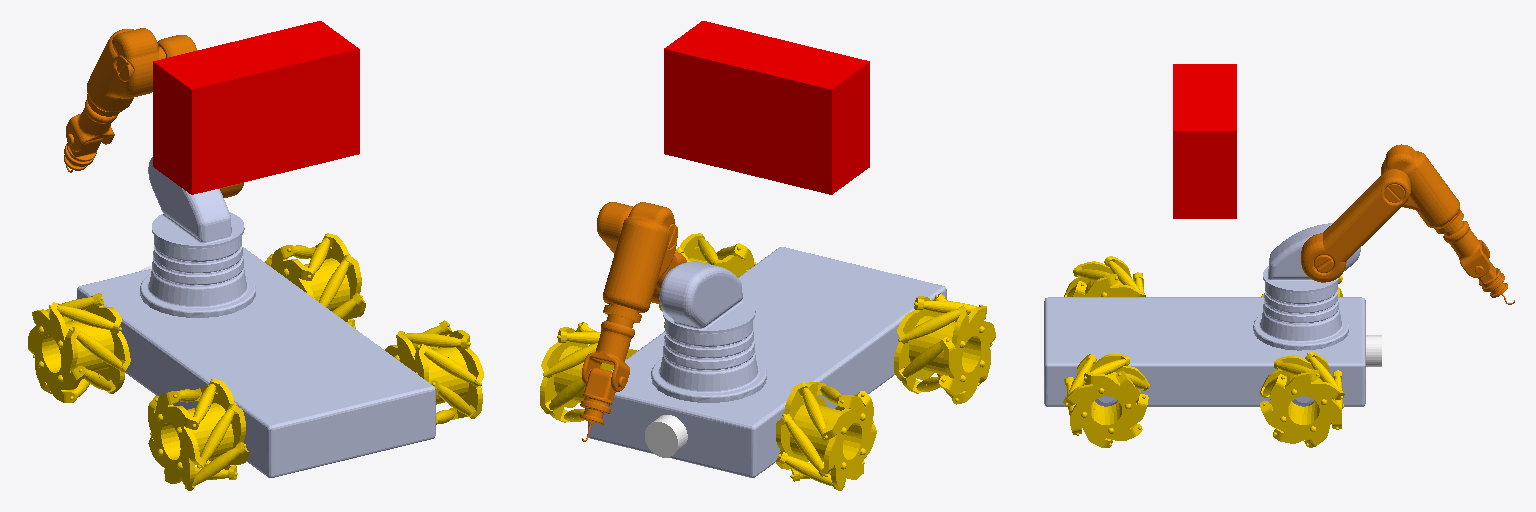
robot.urdf — my_robot:
<?xml version="1.0" encoding="utf-8"?>
<!-- This URDF was automatically created by SolidWorks to URDF Exporter! Originally created by Stephen Brawner (brawner@gmail.com) 
     Commit Version: 1.6.0-4-g7f85cfe  Build Version: 1.6.7995.38578
     For more information, please see http://wiki.ros.org/sw_urdf_exporter -->
<robot
  name="my_robot">
  <link
    name="base_link">
    <inertial>
      <origin
        xyz="-1.31453754602346E-05 0.0145989685767295 0.0128735596572317"
        rpy="0 0 0" />
      <mass
        value="0.0291817522897115" />
      <inertia
        ixx="2.26096677078734E-05"
        ixy="1.05080685382153E-09"
        ixz="1.49707222944589E-09"
        iyy="7.10731627926214E-06"
        iyz="-7.355107142587E-07"
        izz="2.69894564594657E-05" />
    </inertial>
    <visual>
      <origin
        xyz="0 0 0"
        rpy="0 0 0" />
      <geometry>
        <mesh
          filename="package://my_robot/meshes/base_link.STL" />
      </geometry>
      <material
        name="">
        <color
          rgba="0.792156862745098 0.819607843137255 0.933333333333333 1" />
      </material>
    </visual>
    <collision>
      <origin
        xyz="0 0 0"
        rpy="0 0 0" />
      <geometry>
        <mesh
          filename="package://my_robot/meshes/base_link.STL" />
      </geometry>
    </collision>
  </link>
  <link
    name="link_1">
    <inertial>
      <origin
        xyz="0.00223414762984723 0.00830104302441679 0.00906431037667552"
        rpy="0 0 0" />
      <mass
        value="0.00420634678285121" />
      <inertia
        ixx="5.55087733615501E-07"
        ixy="6.36179223881654E-13"
        ixz="-5.71540420351045E-13"
        iyy="3.34497011562759E-07"
        iyz="-2.3665444278581E-07"
        izz="2.92803242780953E-07" />
    </inertial>
    <visual>
      <origin
        xyz="0 0 0"
        rpy="0 0 0" />
      <geometry>
        <mesh
          filename="package://my_robot/meshes/link_1.STL" />
      </geometry>
      <material
        name="">
        <color
          rgba="0.866666666666667 0.486274509803922 0.0549019607843137 1" />
      </material>
    </visual>
    <collision>
      <origin
        xyz="0 0 0"
        rpy="0 0 0" />
      <geometry>
        <mesh
          filename="package://my_robot/meshes/link_1.STL" />
      </geometry>
    </collision>
  </link>
  <joint
    name="arm_1"
    type="revolute">
    <origin
      xyz="0.0075 0.03703 0.044564"
      rpy="0 0 0" />
    <parent
      link="base_link" />
    <child
      link="link_1" />
    <axis
      xyz="1 0 0" />
    <limit
      lower="-1.5708"
      upper="3.1416"
      effort="10"
      velocity="10" />
  </joint>
  <link
    name="link_2">
    <inertial>
      <origin
        xyz="-0.0043157 0.010971 -0.0096757"
        rpy="0 0 0" />
      <mass
        value="0.005347" />
      <inertia
        ixx="2.5247E-07"
        ixy="2.3881E-11"
        ixz="-3.6218E-11"
        iyy="2.063E-07"
        iyz="6.5887E-08"
        izz="1.6953E-07" />
    </inertial>
    <visual>
      <origin
        xyz="0 0 0"
        rpy="0 0 0" />
      <geometry>
        <mesh
          filename="package://my_robot/meshes/link_2.STL" />
      </geometry>
      <material
        name="">
        <color
          rgba="0.86667 0.48627 0.054902 1" />
      </material>
    </visual>
    <collision>
      <origin
        xyz="0 0 0"
        rpy="0 0 0" />
      <geometry>
        <mesh
          filename="package://my_robot/meshes/link_2.STL" />
      </geometry>
    </collision>
  </link>
  <joint
    name="arm_2"
    type="revolute">
    <origin
      xyz="-0.0032658 0.021983 0.024004"
      rpy="0 0 0" />
    <parent
      link="link_1" />
    <child
      link="link_2" />
    <axis
      xyz="1 0 0" />
    <limit
      lower="-1.5708"
      upper="1.5708"
      effort="10"
      velocity="10" />
  </joint>
  <link
    name="link_3">
    <inertial>
      <origin
        xyz="-0.0040462500171085 8.98969064536126E-08 -4.51286701875185E-08"
        rpy="0 0 0" />
      <mass
        value="0.00249693932535124" />
      <inertia
        ixx="1.69120898530834E-07"
        ixy="-2.97875097863566E-14"
        ixz="5.06710793463879E-16"
        iyy="9.96401080341647E-08"
        iyz="2.03546979033232E-14"
        izz="9.96401933922976E-08" />
    </inertial>
    <visual>
      <origin
        xyz="0 0 0"
        rpy="0 0 0" />
      <geometry>
        <mesh
          filename="package://my_robot/meshes/link_3.STL" />
      </geometry>
      <material
        name="">
        <color
          rgba="0.992156862745098 0.835294117647059 0 1" />
      </material>
    </visual>
    <collision>
      <origin
        xyz="0 0 0"
        rpy="0 0 0" />
      <geometry>
        <mesh
          filename="package://my_robot/meshes/link_3.STL" />
      </geometry>
    </collision>
  </link>
  <joint
    name="banh_sau_1"
    type="continuous">
    <origin
      xyz="0.039139 -0.03075 0.0075001"
      rpy="0 0 0" />
    <parent
      link="base_link" />
    <child
      link="link_3" />
    <axis
      xyz="-1 0 0" />
    <limit
      effort="20"
      velocity="20" />
  </joint>
  <link
    name="link_5">
    <inertial>
      <origin
        xyz="8.20020440439606E-12 1.18081321283381E-07 2.67257998735199E-08"
        rpy="0 0 0" />
      <mass
        value="0.00249697642159156" />
      <inertia
        ixx="1.69125000069436E-07"
        ixy="-3.09754433163804E-14"
        ixz="-7.03839122429789E-14"
        iyy="9.96427996052339E-08"
        iyz="-1.37493723279831E-13"
        izz="9.96424903226141E-08" />
    </inertial>
    <visual>
      <origin
        xyz="0 0 0"
        rpy="0 0 0" />
      <geometry>
        <mesh
          filename="package://my_robot/meshes/link_5.STL" />
      </geometry>
      <material
        name="">
        <color
          rgba="0.992156862745098 0.835294117647059 0 1" />
      </material>
    </visual>
    <collision>
      <origin
        xyz="0 0 0"
        rpy="0 0 0" />
      <geometry>
        <mesh
          filename="package://my_robot/meshes/link_5.STL" />
      </geometry>
    </collision>
  </link>
  <joint
    name="banh_sau_2"
    type="continuous">
    <origin
      xyz="-0.035093 -0.03075 0.0075"
      rpy="0 0 0" />
    <parent
      link="base_link" />
    <child
      link="link_5" />
    <axis
      xyz="-1 0 0" />
    <limit
      effort="20"
      velocity="20" />
  </joint>
  <link
    name="link_4">
    <inertial>
      <origin
        xyz="-6.96298574354159E-12 1.08703289206785E-07 -2.48209927320754E-08"
        rpy="0 0 0" />
      <mass
        value="0.00249697638863783" />
      <inertia
        ixx="1.69124999181447E-07"
        ixy="3.00944884872809E-14"
        ixz="-2.41404350978596E-14"
        iyy="9.96427804379049E-08"
        iyz="6.18187286896431E-14"
        izz="9.96425075153552E-08" />
    </inertial>
    <visual>
      <origin
        xyz="0 0 0"
        rpy="0 0 0" />
      <geometry>
        <mesh
          filename="package://my_robot/meshes/link_4.STL" />
      </geometry>
      <material
        name="">
        <color
          rgba="0.992156862745098 0.835294117647059 0 1" />
      </material>
    </visual>
    <collision>
      <origin
        xyz="0 0 0"
        rpy="0 0 0" />
      <geometry>
        <mesh
          filename="package://my_robot/meshes/link_4.STL" />
      </geometry>
    </collision>
  </link>
  <joint
    name="banh_truoc_1"
    type="continuous">
    <origin
      xyz="0.035093 0.03075 0.0075"
      rpy="0 0 0" />
    <parent
      link="base_link" />
    <child
      link="link_4" />
    <axis
      xyz="1 0 0" />
    <limit
      effort="20"
      velocity="20" />
  </joint>
  <link
    name="link_6">
    <inertial>
      <origin
        xyz="-7.06587566234873E-14 1.12056228369212E-07 2.7380035182243E-08"
        rpy="0 0 0" />
      <mass
        value="0.00249693933126322" />
      <inertia
        ixx="1.69120899399444E-07"
        ixy="4.11806883793746E-14"
        ixz="4.10356660453772E-14"
        iyy="9.96401511816989E-08"
        iyz="6.47487705818278E-14"
        izz="9.96401513108857E-08" />
    </inertial>
    <visual>
      <origin
        xyz="0 0 0"
        rpy="0 0 0" />
      <geometry>
        <mesh
          filename="package://my_robot/meshes/link_6.STL" />
      </geometry>
      <material
        name="">
        <color
          rgba="0.992156862745098 0.835294117647059 0 1" />
      </material>
    </visual>
    <collision>
      <origin
        xyz="0 0 0"
        rpy="0 0 0" />
      <geometry>
        <mesh
          filename="package://my_robot/meshes/link_6.STL" />
      </geometry>
    </collision>
  </link>
  <joint
    name="banh_truoc_2"
    type="continuous">
    <origin
      xyz="-0.035093 0.03075 0.0074999"
      rpy="0 0 0" />
    <parent
      link="base_link" />
    <child
      link="link_6" />
    <axis
      xyz="1 0 0" />
    <limit
      effort="20"
      velocity="20" />
  </joint>
  <link
    name="link_7">
    <inertial>
      <origin
        xyz="0 0 0"
        rpy="0 0 0" />
      <mass
        value="0" />
      <inertia
        ixx="0"
        ixy="0"
        ixz="0"
        iyy="0"
        iyz="0"
        izz="0" />
    </inertial>
    <visual>
      <origin
        xyz="0 0 0"
        rpy="0 0 0" />
      <geometry>
        <mesh
          filename="package://my_robot/meshes/link_7.STL" />
      </geometry>
      <material
        name="">
        <color
          rgba="1 1 1 1" />
      </material>
    </visual>
    <collision>
      <origin
        xyz="0 0 0"
        rpy="0 0 0" />
      <geometry>
        <mesh
          filename="package://my_robot/meshes/link_7.STL" />
      </geometry>
    </collision>
  </link>
  <joint
    name="lidar"
    type="fixed">
    <origin
      xyz="-0.000187931464256533 0.0525 0.00771984791654629"
      rpy="0 0 0" />
    <parent
      link="base_link" />
    <child
      link="link_7" />
    <axis
      xyz="0 0 0" />
    </joint>
  <gazebo>
    <plugin name="differential_drive_controller" filename="libgazebo_ros_diff_drive.so">
      <updateRate>20</updateRate>
      <leftJoint>banh_sau_2</leftJoint>
      <rightJoint>banh_sau_1</rightJoint>
      <wheelSeparation>0.4</wheelSeparation>
      <wheelDiameter>0.2</wheelDiameter>
      <wheelTorque>20</wheelTorque>
      <commandTopic>cmd_vel</commandTopic>
      <odometryTopic>odom</odometryTopic>
      <robotBaseFrame>base_link</robotBaseFrame>
    </plugin>
  </gazebo>

  <transmission name="tran1">
    <type>transmission_interface/SimpleTransmission</type>
    <joint name="arm_1">
      <hardwareInterface>hardware_interface/PositionJointInterface</hardwareInterface>
    </joint>
    <actuator name="motor1">
      <mechanicalReduction>1</mechanicalReduction>
    </actuator>
  </transmission>

  <transmission name="tran2">
    <type>transmission_interface/SimpleTransmission</type>
    <joint name="arm_2">
      <hardwareInterface>hardware_interface/PositionJointInterface</hardwareInterface>
    </joint>
    <actuator name="motor2">
      <mechanicalReduction>1</mechanicalReduction>
    </actuator>
  </transmission>

  <gazebo>
    <plugin name="gazebo_ros_control" filename="libgazebo_ros_control.so">
      <robotNamespace>/</robotNamespace>
    </plugin>
  </gazebo>
  <gazebo reference="link_7">
    <sensor type="ray" name="head_hokuyo_sensor">
      <pose>0 0 0 0 0 0</pose>
      <visualize>true</visualize>
      <update_rate>40</update_rate>
      <ray>
        <scan>
          <horizontal>
            <samples>720</samples>
            <resolution>1</resolution>
            <min_angle>-3.14159</min_angle> <max_angle>3.14159</max_angle>  </horizontal>
        </scan>
        <range>
          <min>0.10</min>
          <max>30.0</max>
          <resolution>0.01</resolution>
        </range>
        <noise>
          <type>gaussian</type>
          <mean>0.0</mean>
          <stddev>0.01</stddev>
        </noise>
      </ray>
      <plugin name="gazebo_ros_head_hokuyo_controller" filename="libgazebo_ros_laser.so">
        <topicName>/scan</topicName>
        <frameName>link_7</frameName> </plugin>
    </sensor>
  </gazebo>
  <link name="imu_link">
    <visual>
      <geometry>
        <box size="0.02 0.02 0.005"/> 
      </geometry>
      <material name="white">
        <color rgba="1 1 1 1"/>
      </material>
    </visual>
    <inertial>
      <mass value="0.01" />
      <inertia ixx="1e-6" ixy="0" ixz="0" iyy="1e-6" iyz="0" izz="1e-6" />
    </inertial>
  </link>

  <joint name="imu_joint" type="fixed">
    <parent link="base_link"/>
    <child link="imu_link"/>
    <origin xyz="0 0 0.01" rpy="0 0 0"/> 
  </joint>
  <gazebo reference="imu_link">
    <gravity>true</gravity>
    <sensor name="imu_sensor" type="imu">
      <always_on>true</always_on>
      <update_rate>100</update_rate>
      <visualize>true</visualize>
      <topic>__default_topic__</topic>
      <plugin filename="libgazebo_ros_imu_sensor.so" name="imu_plugin">
        <topicName>imu</topicName>         <bodyName>imu_link</bodyName>
        <updateRateHZ>100.0</updateRateHZ>
        <gaussianNoise>0.0</gaussianNoise> <xyzOffset>0 0 0</xyzOffset>     
        <rpyOffset>0 0 0</rpyOffset>
        <frameName>imu_link</frameName>    </plugin>
      <pose>0 0 0 0 0 0</pose>
    </sensor>
  </gazebo>
 <joint name="camera_joint" type="fixed">
    <parent link="base_link"/>
    <child link="camera_link"/>
    <origin xyz="0 0 0.08" rpy="0 0 1.57"/> 
  </joint>

  <link name="camera_link">
    <visual>
      <geometry>
        <box size="0.02 0.05 0.03"/> 
      </geometry>
      <material name="red">
        <color rgba="1 0 0 1"/>
      </material>
    </visual>
    <inertial>
      <mass value="0.01" />
      <inertia ixx="1e-6" ixy="0" ixz="0" iyy="1e-6" iyz="0" izz="1e-6" />
    </inertial>
  </link>
  <gazebo reference="camera_link">
  <sensor type="camera" name="main_camera">
    <update_rate>30.0</update_rate>
    <visualize>true</visualize> 
    <camera name="head">
      <horizontal_fov>1.3962634</horizontal_fov> 
      <image>
        <width>640</width>
        <height>480</height>
        <format>R8G8B8</format>
      </image>
      <clip>
        <near>0.02</near>
        <far>300</far>
      </clip>
    </camera>
    <plugin name="camera_controller" filename="libgazebo_ros_camera.so">
      <alwaysOn>true</alwaysOn>
      <cameraName>robot/camera</cameraName>
      <imageTopicName>image_raw</imageTopicName>
      <cameraInfoTopicName>camera_info</cameraInfoTopicName>
      <frameName>camera_link</frameName>
    </plugin>
  </sensor>
  </gazebo>
</robot>

--- What the picture shows (computed from the rendered views, not written in the file) ---
Views: 3 orthographic renders of the robot side by side, from view 1: azimuth 30°, elevation 25°; view 2: azimuth 150°, elevation 25°; view 3: azimuth 270°, elevation 25°.
Robot: my_robot — 10 links, 9 joints (2 revolute, 4 continuous, 3 fixed); root link base_link; default pose: every joint at zero.
Links seen in each view (by area): view 1: base_link, camera_link, link_6, link_5, link_2, link_3, link_4, link_1; view 2: base_link, camera_link, link_2, link_5, link_6, link_4, link_3, link_1, link_7; view 3: base_link, camera_link, link_2, link_3, link_4, link_1, link_5.
Boxes of the visible links, x1=… form: base_link: x1=77, y1=157, x2=435, y2=477; camera_link: x1=153, y1=21, x2=359, y2=194; link_6: x1=28, y1=293, x2=130, y2=402; link_5: x1=148, y1=379, x2=249, y2=490; link_2: x1=64, y1=28, x2=165, y2=172; link_3: x1=385, y1=320, x2=483, y2=424; link_4: x1=265, y1=233, x2=365, y2=328; link_1: x1=157, y1=35, x2=243, y2=197; base_link: x1=588, y1=247, x2=946, y2=477; camera_link: x1=664, y1=21, x2=869, y2=194; link_2: x1=580, y1=202, x2=677, y2=441; link_5: x1=894, y1=293, x2=995, y2=404; link_6: x1=776, y1=382, x2=876, y2=490; link_4: x1=540, y1=322, x2=636, y2=422; link_3: x1=659, y1=233, x2=755, y2=327; link_1: x1=597, y1=202, x2=686, y2=303; link_7: x1=645, y1=415, x2=687, y2=457; base_link: x1=1044, y1=223, x2=1365, y2=406; camera_link: x1=1173, y1=64, x2=1236, y2=218; link_2: x1=1381, y1=144, x2=1514, y2=304; link_3: x1=1063, y1=354, x2=1149, y2=447; link_4: x1=1260, y1=352, x2=1344, y2=447; link_1: x1=1301, y1=169, x2=1410, y2=282; link_5: x1=1064, y1=256, x2=1145, y2=296.
Size in the robot's own frame: 0.0884 by 0.1467 by 0.1012 metres.
Meshes: 8 distinct files referenced, 8 mesh visuals loaded (8 binary STL).
